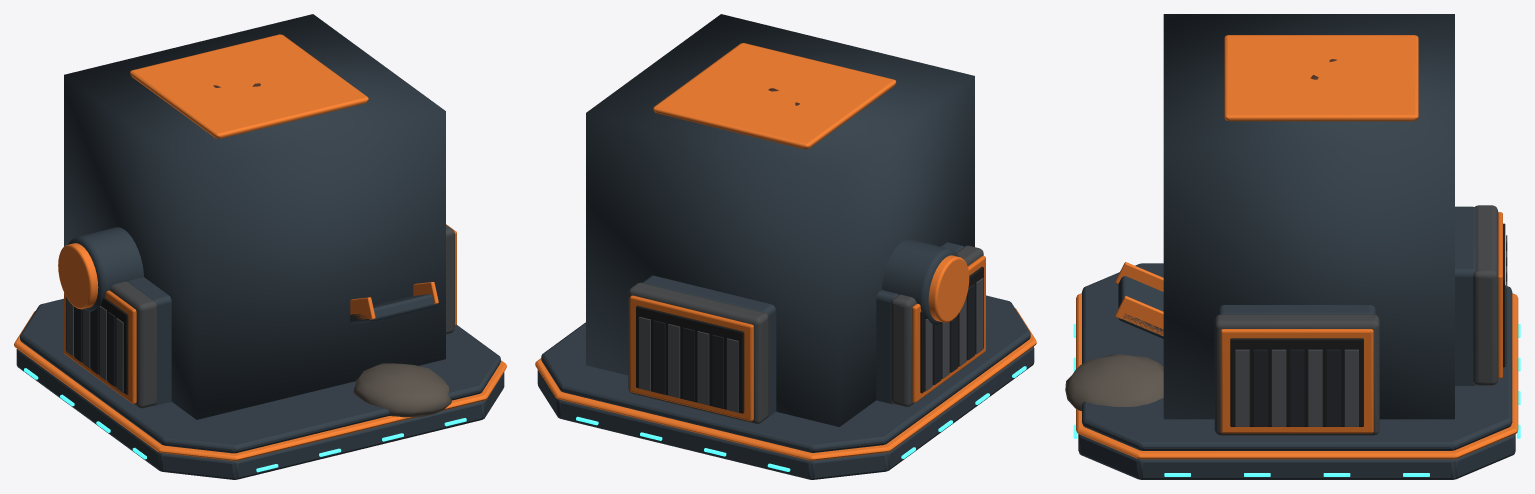
The model's file is crusher.glb.
3 renders of one model, left to right at view 1: azimuth 30°, elevation 25°; view 2: azimuth 150°, elevation 25°; view 3: azimuth 270°, elevation 25°, orthographic. The views are drawn at different scales.
Parts seen in each view (by area): view 1: COL_body, deck, hopper, plinth, plinth lip, grit pile, motor, port 0 frame, motor cap, port block 0, port 0 enamel, port 0 throat (+5 smaller); view 2: COL_body, hopper, deck, plinth, plinth lip, port 2 frame, port 2 enamel, port 2 throat, motor, port 0 frame, port block 2, motor cap (+14 smaller); view 3: COL_body, deck, hopper, plinth, plinth lip, port 2 frame, port 1 enamel, port 1 throat, grit pile, port 1 frame, port block 2, port block 1 (+11 smaller).
Boxes of the visible parts, left/top/right/bottom form: COL_body: left=64, top=14, right=445, bottom=419; deck: left=20, top=298, right=500, bottom=453; hopper: left=130, top=34, right=368, bottom=138; plinth: left=16, top=349, right=504, bottom=479; plinth lip: left=14, top=311, right=506, bottom=461; grit pile: left=353, top=363, right=451, bottom=417; motor: left=68, top=227, right=143, bottom=311; port 0 frame: left=110, top=281, right=157, bottom=408; motor cap: left=58, top=243, right=98, bottom=309; port block 0: left=128, top=277, right=171, bottom=405; port 0 enamel: left=64, top=290, right=136, bottom=403; port 0 throat: left=66, top=297, right=128, bottom=394; COL_body: left=586, top=14, right=974, bottom=426; hopper: left=653, top=43, right=896, bottom=149; deck: left=541, top=295, right=1030, bottom=452; plinth: left=537, top=346, right=1034, bottom=479; plinth lip: left=535, top=308, right=1036, bottom=460; port 2 frame: left=628, top=282, right=768, bottom=423; port 2 enamel: left=629, top=295, right=753, bottom=421; port 2 throat: left=636, top=305, right=744, bottom=413; motor: left=882, top=239, right=958, bottom=325; port 0 frame: left=890, top=245, right=983, bottom=406; port block 2: left=642, top=275, right=776, bottom=417; motor cap: left=928, top=255, right=969, bottom=322; COL_body: left=1163, top=14, right=1454, bottom=419; deck: left=1082, top=263, right=1512, bottom=450; hopper: left=1224, top=35, right=1418, bottom=121; plinth: left=1078, top=434, right=1515, bottom=479; plinth lip: left=1076, top=293, right=1518, bottom=459; port 2 frame: left=1473, top=205, right=1498, bottom=385; port 1 enamel: left=1220, top=329, right=1373, bottom=433; port 1 throat: left=1230, top=338, right=1363, bottom=426; grit pile: left=1065, top=354, right=1163, bottom=410; port 1 frame: left=1214, top=314, right=1379, bottom=435; port block 2: left=1455, top=206, right=1476, bottom=385; port block 1: left=1218, top=305, right=1375, bottom=314.
Bounding box in the file's own units: 3.68 × 2.86 × 3.75.
